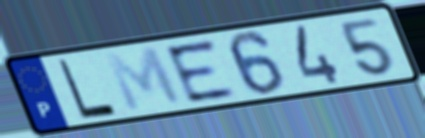4: (296, 23, 340, 86)
5: (335, 15, 399, 76)
6: (226, 29, 287, 97)
E: (161, 37, 240, 106)
L: (55, 56, 120, 121)
M: (101, 44, 187, 115)
